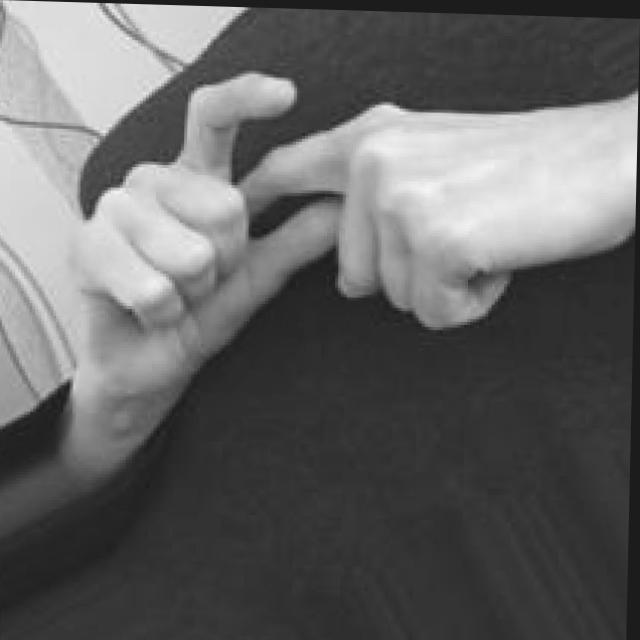G: (55, 62, 639, 517)
